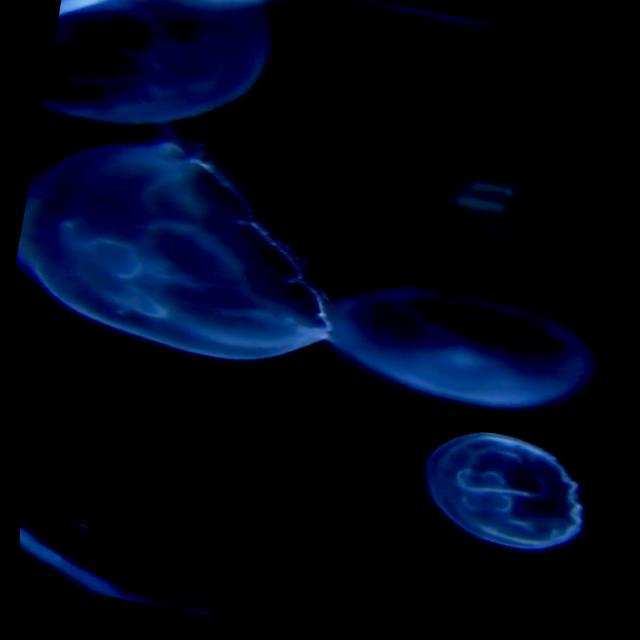Moon-jellyfish: (15, 128, 590, 408), (422, 433, 579, 550)
